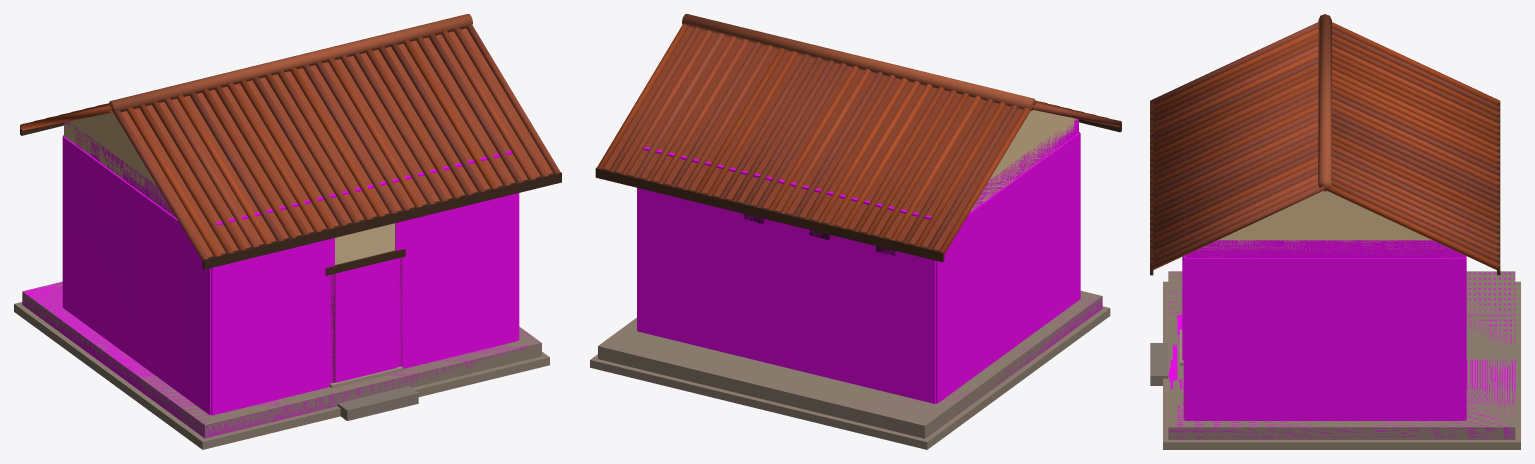
Rendered from ENV_Granary_A.glb.
3 views of the same model, side by side, from view 1: azimuth 30°, elevation 25°; view 2: azimuth 150°, elevation 25°; view 3: azimuth 270°, elevation 25° (orthographic). The views are drawn at different scales.
Visible parts, largest first — view 1: ENV_Granary_A_Mesh, COL_WallSide_-1, COL_WallFront_-1, COL_WallFront_1, WALK_Floor, COL_DOOR_Main, COL_Ceiling; view 2: ENV_Granary_A_Mesh, COL_WallBack, COL_WallSide_-1, COL_Ceiling, WALK_Floor; view 3: ENV_Granary_A_Mesh, COL_WallSide_1, WALK_Floor, COL_Ceiling, COL_WallFront_1.
Boxes of the visible parts, x1,y1,x2,y2 form: ENV_Granary_A_Mesh: (14,14,561,449); COL_WallSide_-1: (62,136,211,415); COL_WallFront_-1: (211,238,334,415); COL_WallFront_1: (395,193,518,368); WALK_Floor: (22,282,540,438); COL_DOOR_Main: (335,259,396,382); COL_Ceiling: (64,121,512,225); ENV_Granary_A_Mesh: (590,14,1121,449); COL_WallBack: (637,188,935,403); COL_WallSide_-1: (936,132,1080,403); COL_Ceiling: (643,118,1078,219); WALK_Floor: (848,293,1102,435); ENV_Granary_A_Mesh: (1150,14,1520,449); COL_WallSide_1: (1185,258,1464,420); WALK_Floor: (1168,271,1515,439); COL_Ceiling: (1185,101,1464,257); COL_WallFront_1: (1183,255,1185,420).
Bounding box in the file's own units: 7.03 × 5.38 × 6.63.
